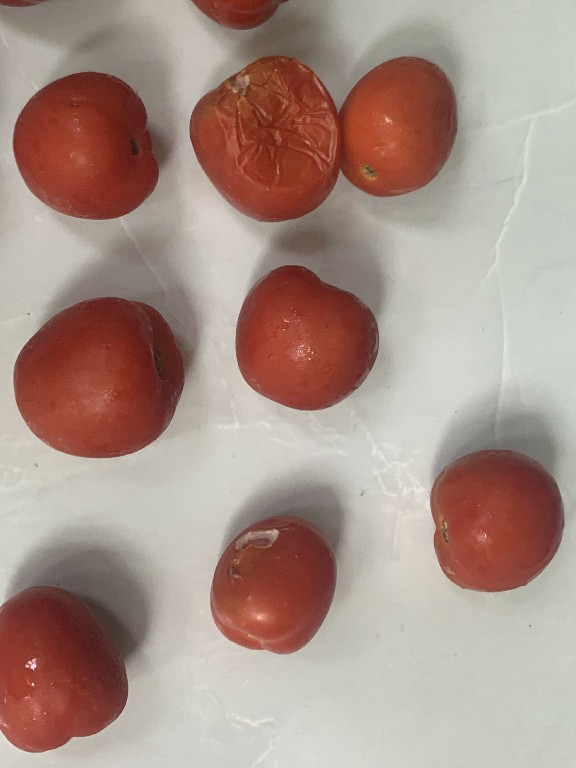NG: (177, 52, 351, 232), (202, 503, 341, 659)
OK: (3, 284, 199, 474), (0, 552, 141, 762), (226, 255, 394, 429), (0, 63, 167, 229), (417, 442, 569, 616), (335, 40, 464, 211)
